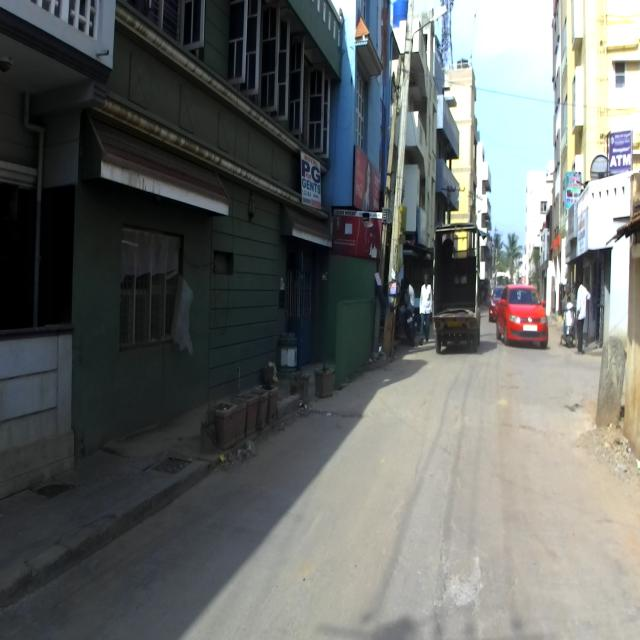car ahead at: (496, 281, 552, 349)
electric pole ahead at: (380, 1, 423, 377)
stones ahead at: (211, 358, 311, 453)
truck ahead at: (429, 220, 484, 358)
